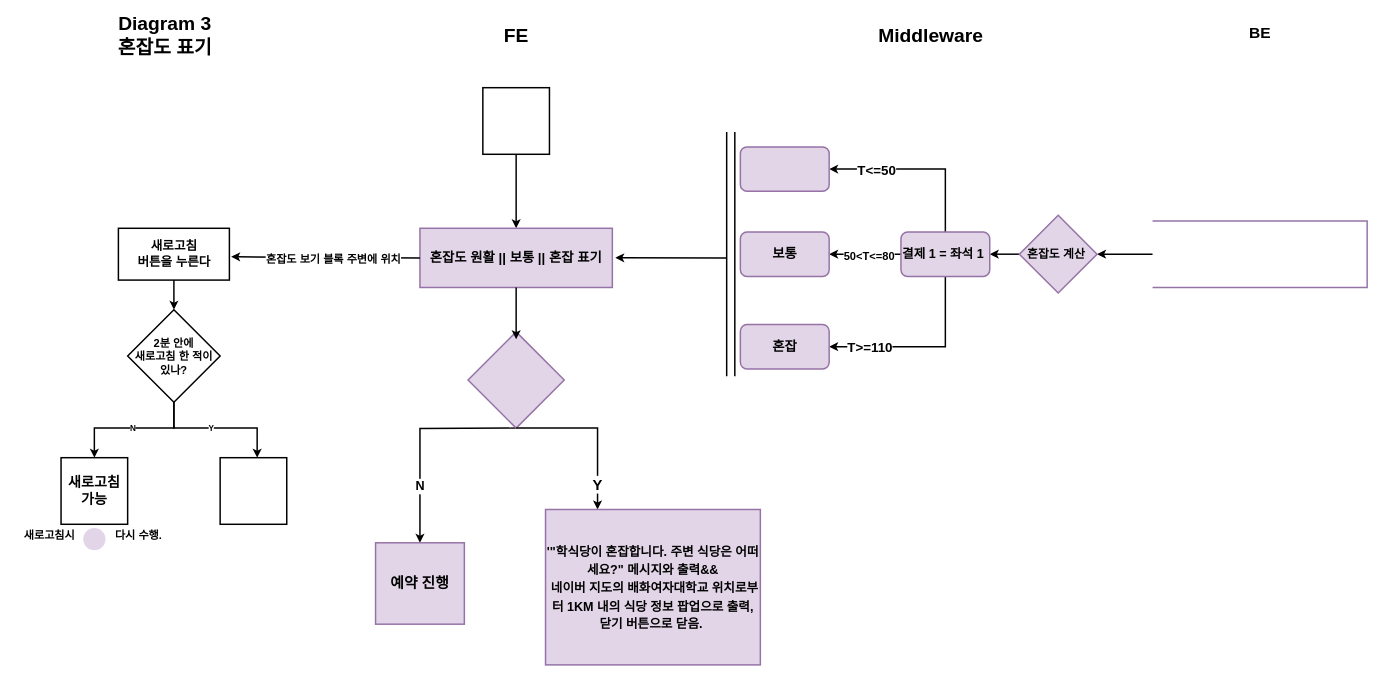
This 1380x678 diagram has some shape labels left out. The shapes that lost their labels are listed below. From the top down, each one's centre as x and y in pixels, then its label:
At point 516,121: "앱 시작".
At point 784,169: "원활".
At point 1259,254: "접속 시간으로부터 25분 전까지의 결제 데이터 카운트".
At point 516,379: "if 혼잡도==혼잡".
At point 253,491: "새로고침 불가능".
